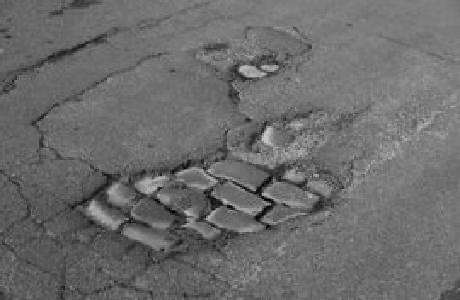pothole: (71, 155, 345, 260), (243, 107, 338, 163), (234, 55, 283, 81)
